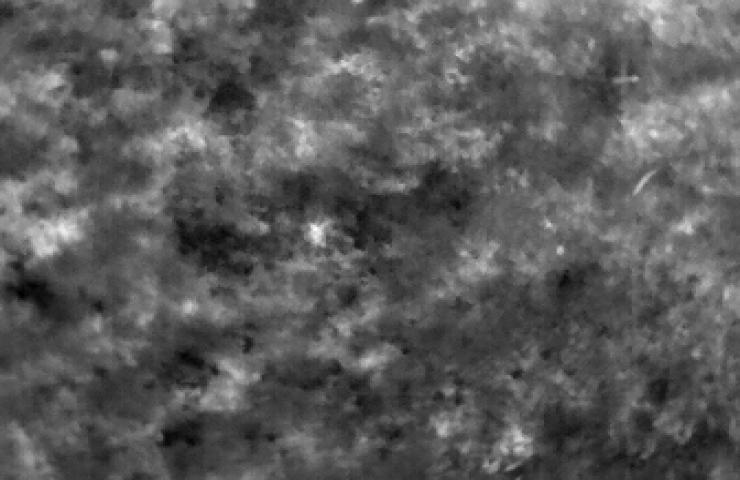landmines: (305, 218, 333, 250)
